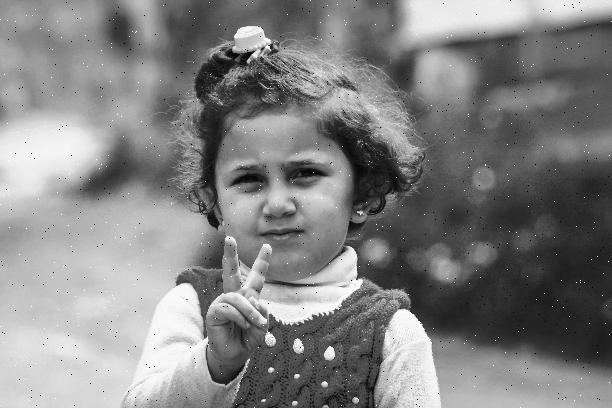Scissors: (208, 232, 272, 365)
